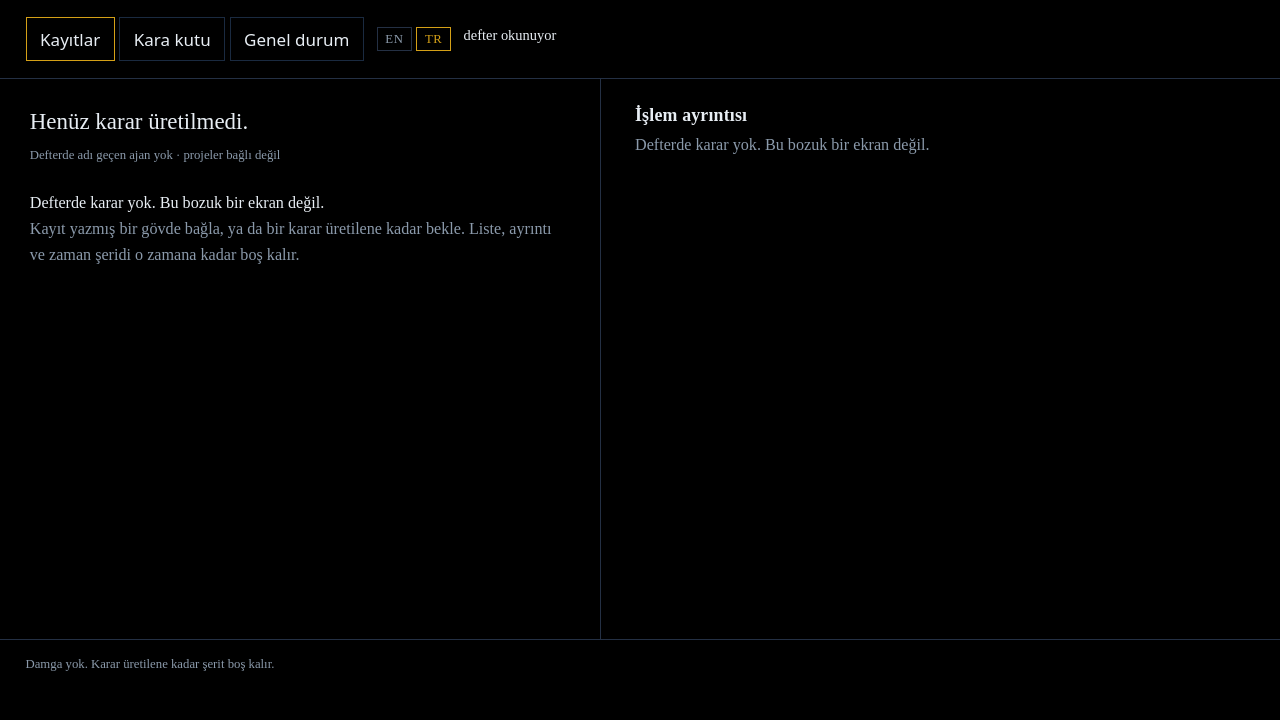
Test: durum ekranı bağlı ürünleri söyler › hiç bağlı ürün yoksa bölümü gizlemez, yokluğu söyler
The width and height of the screenshot is (1280, 720).
Click the tab "Genel durum": (297, 39) [230,17,364,61]
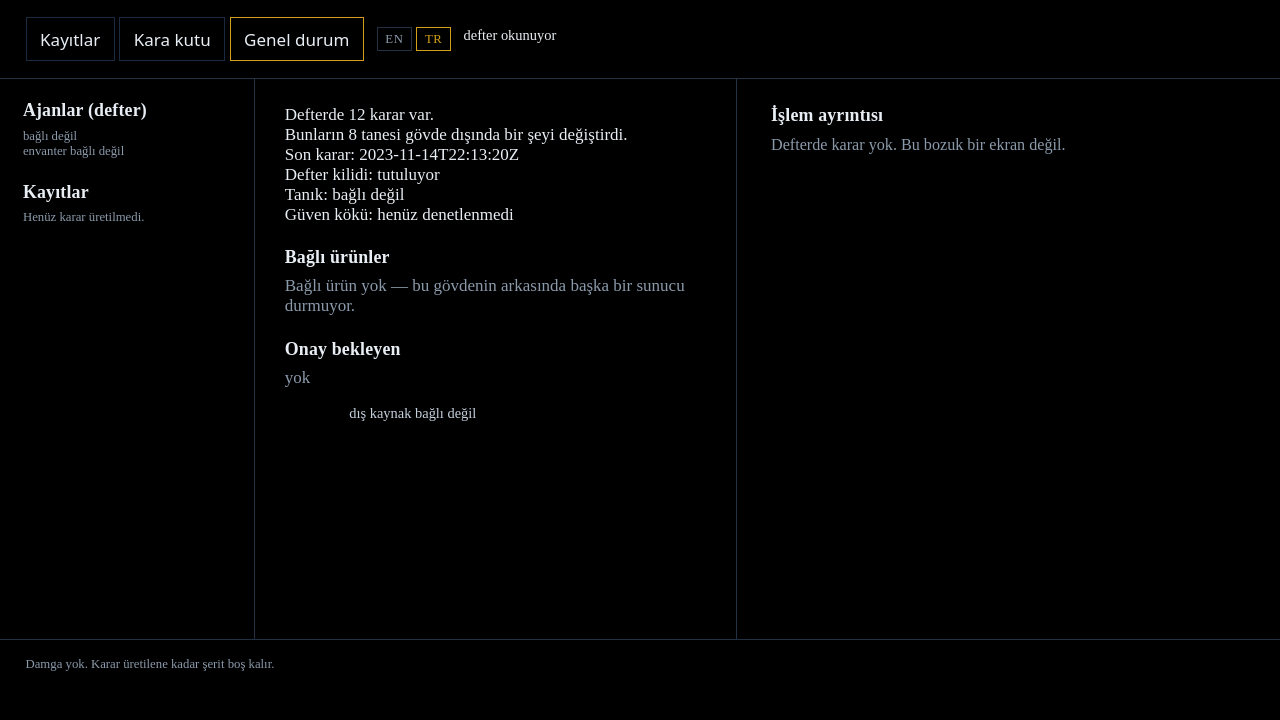
Now the text "Bağlı ürün yok" is shown, box [285,276,685,315]
